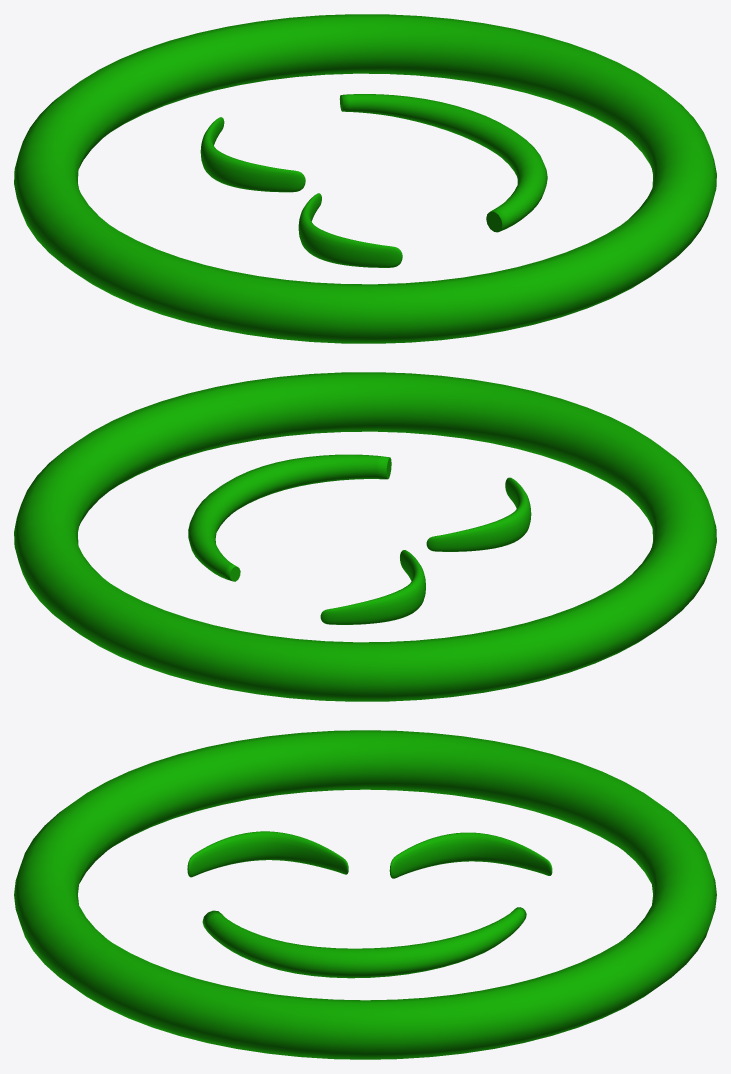
Rendered from Smiley_Joy.fbx.
3 views of the same model, one above another, from view 1: azimuth 30°, elevation 25°; view 2: azimuth 150°, elevation 25°; view 3: azimuth 270°, elevation 25° (orthographic).
Parts seen in each view (by area): view 1: Smiley_Joy; view 2: Smiley_Joy; view 3: Smiley_Joy.
Boxes of the visible parts, bbox=[...] form: Smiley_Joy: bbox=[14, 14, 716, 343]; Smiley_Joy: bbox=[14, 372, 716, 701]; Smiley_Joy: bbox=[14, 730, 716, 1059].
Size of the model in its own units: 240 by 20 by 240.
